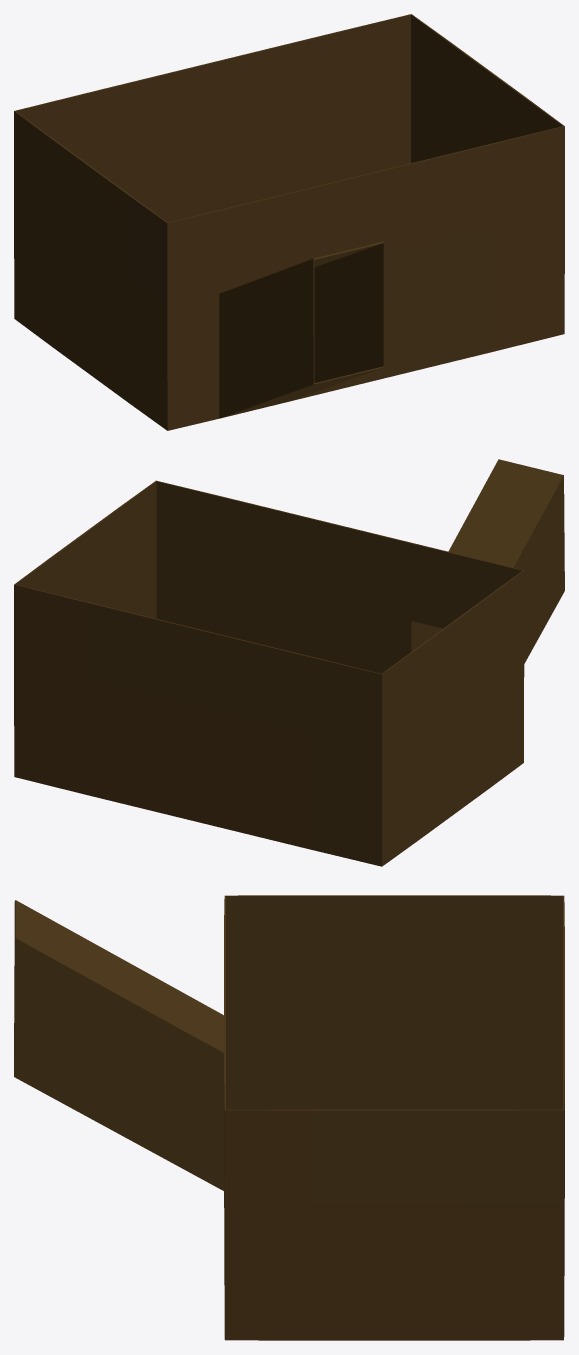
File: WallsFloor3.fbx
3 views of the same model, one above another, from view 1: azimuth 30°, elevation 25°; view 2: azimuth 150°, elevation 25°; view 3: azimuth 270°, elevation 25° (orthographic). The views are drawn at different scales.
Visible parts, largest first — view 1: Plane.005; view 2: Plane.005; view 3: Plane.005.
Part boxes in pixels (bbox=[...]): Plane.005: bbox=[14, 14, 564, 430]; Plane.005: bbox=[14, 459, 564, 866]; Plane.005: bbox=[14, 895, 564, 1340].
Size of the model in its own units: 756 by 416 by 818.
